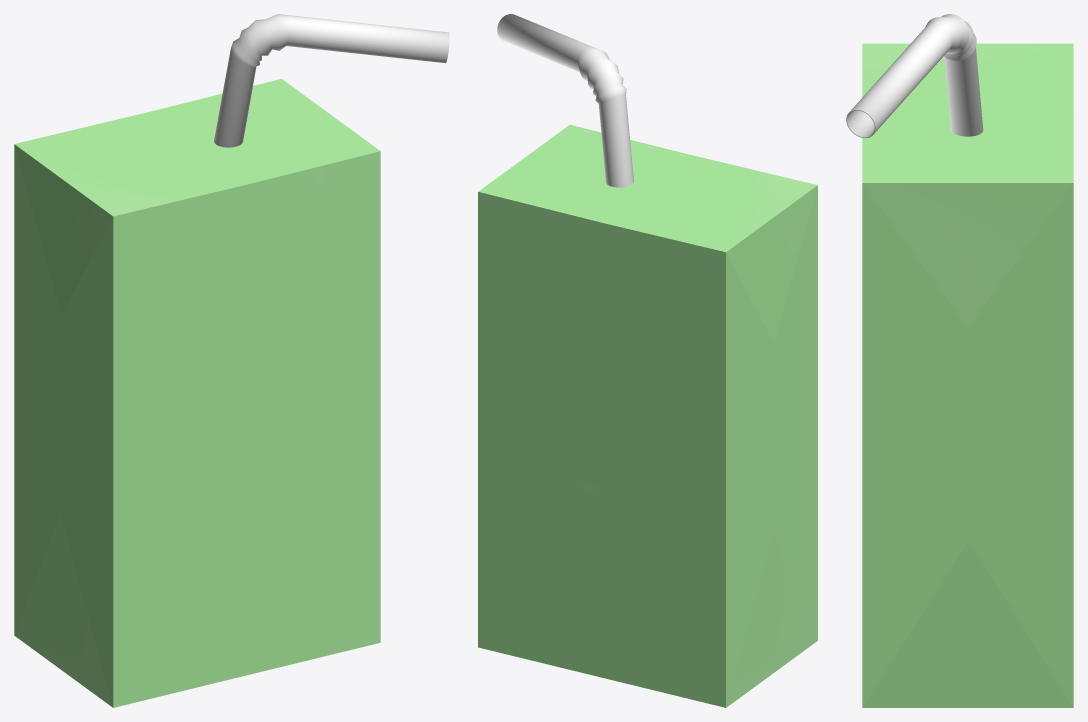
File: Juicebox.fbx
The picture shows the model from 3 angles, left to right: view 1: azimuth 30°, elevation 25°; view 2: azimuth 150°, elevation 25°; view 3: azimuth 270°, elevation 25°; orthographic projection. The views are drawn at different scales.
Parts seen in each view (by area): view 1: Juice; view 2: Juice; view 3: Juice.
Boxes of the visible parts, x1,y1,x2,y2 form: Juice: (14,14,449,707); Juice: (478,14,817,707); Juice: (846,14,1073,707).
Bounding box in the file's own units: 22.4 × 38.43 × 12.06.
1 material, 1 textured.
